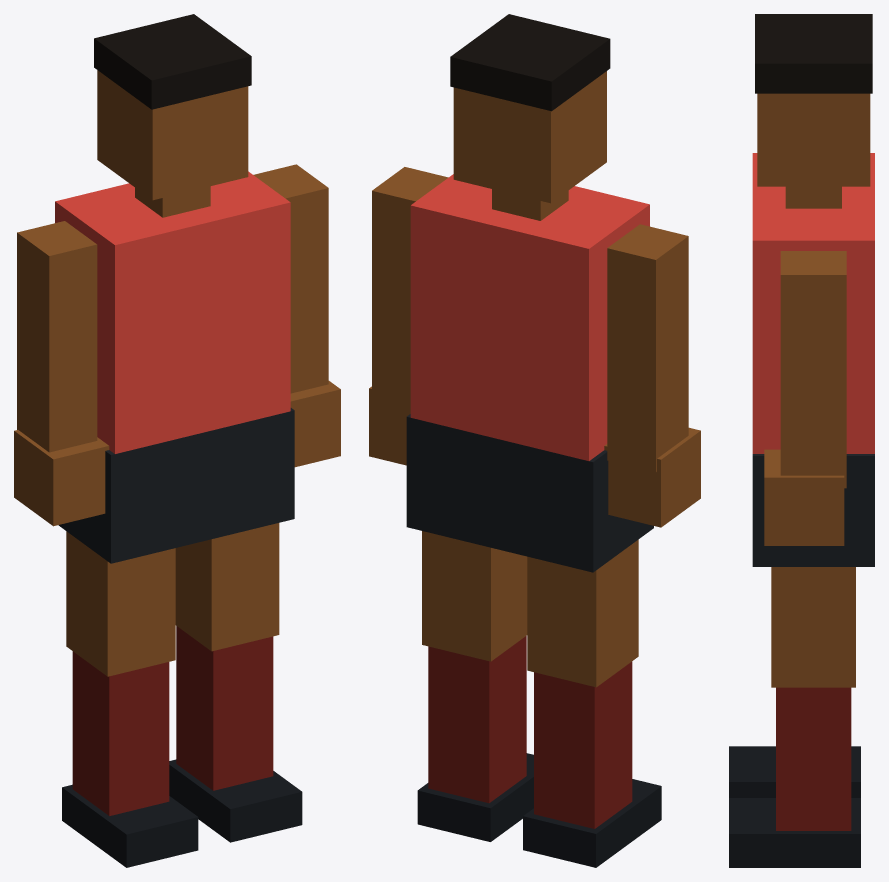
File: adversario.glb
3 renders of one model, left to right at view 1: azimuth 30°, elevation 25°; view 2: azimuth 150°, elevation 25°; view 3: azimuth 270°, elevation 25°, orthographic. The views are drawn at different scales.
Parts seen in each view (by area): view 1: adversario; view 2: adversario; view 3: adversario.
Boxes of the visible parts, x1,y1,x2,y2 form: adversario: (14,14,340,867); adversario: (369,14,700,867); adversario: (729,14,874,867).
Bounding box in the file's own units: 0.72 × 1.84 × 0.31.
